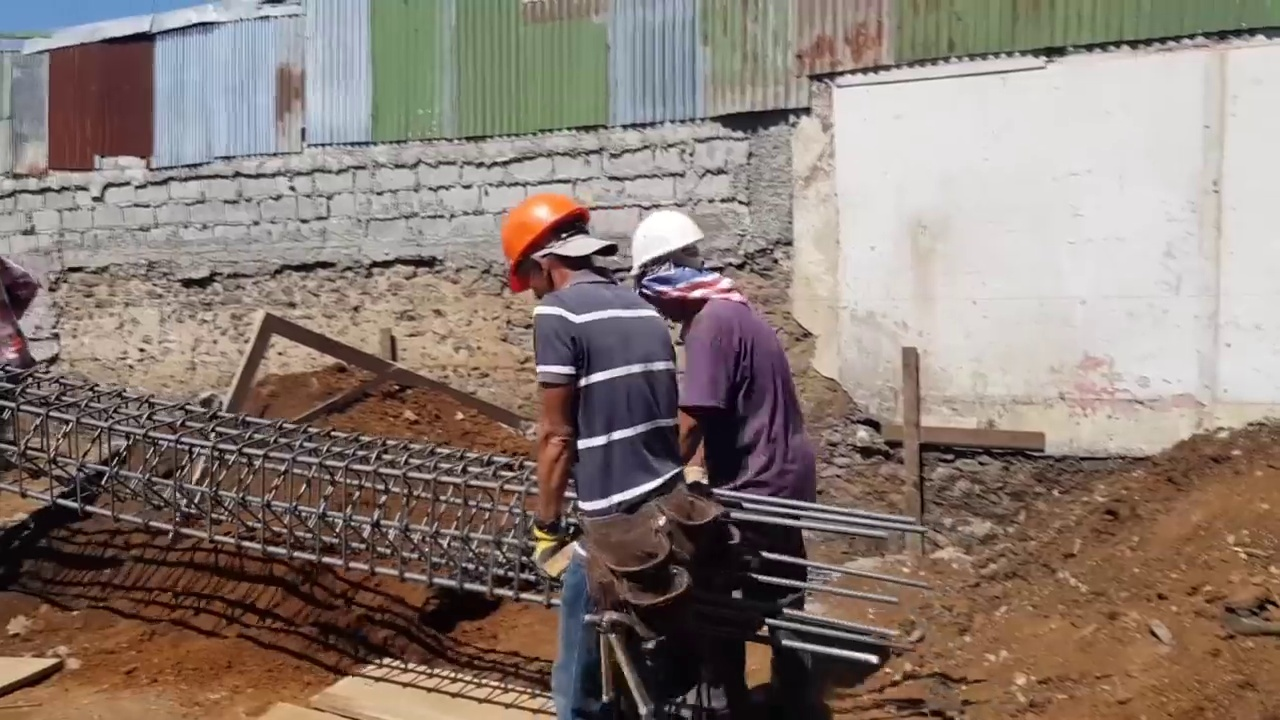helmet: (500, 189, 592, 293), (634, 212, 702, 272)
helmet-on: (498, 177, 615, 305), (625, 198, 732, 327)
person: (505, 180, 716, 713), (624, 197, 818, 506), (1, 240, 48, 382)
